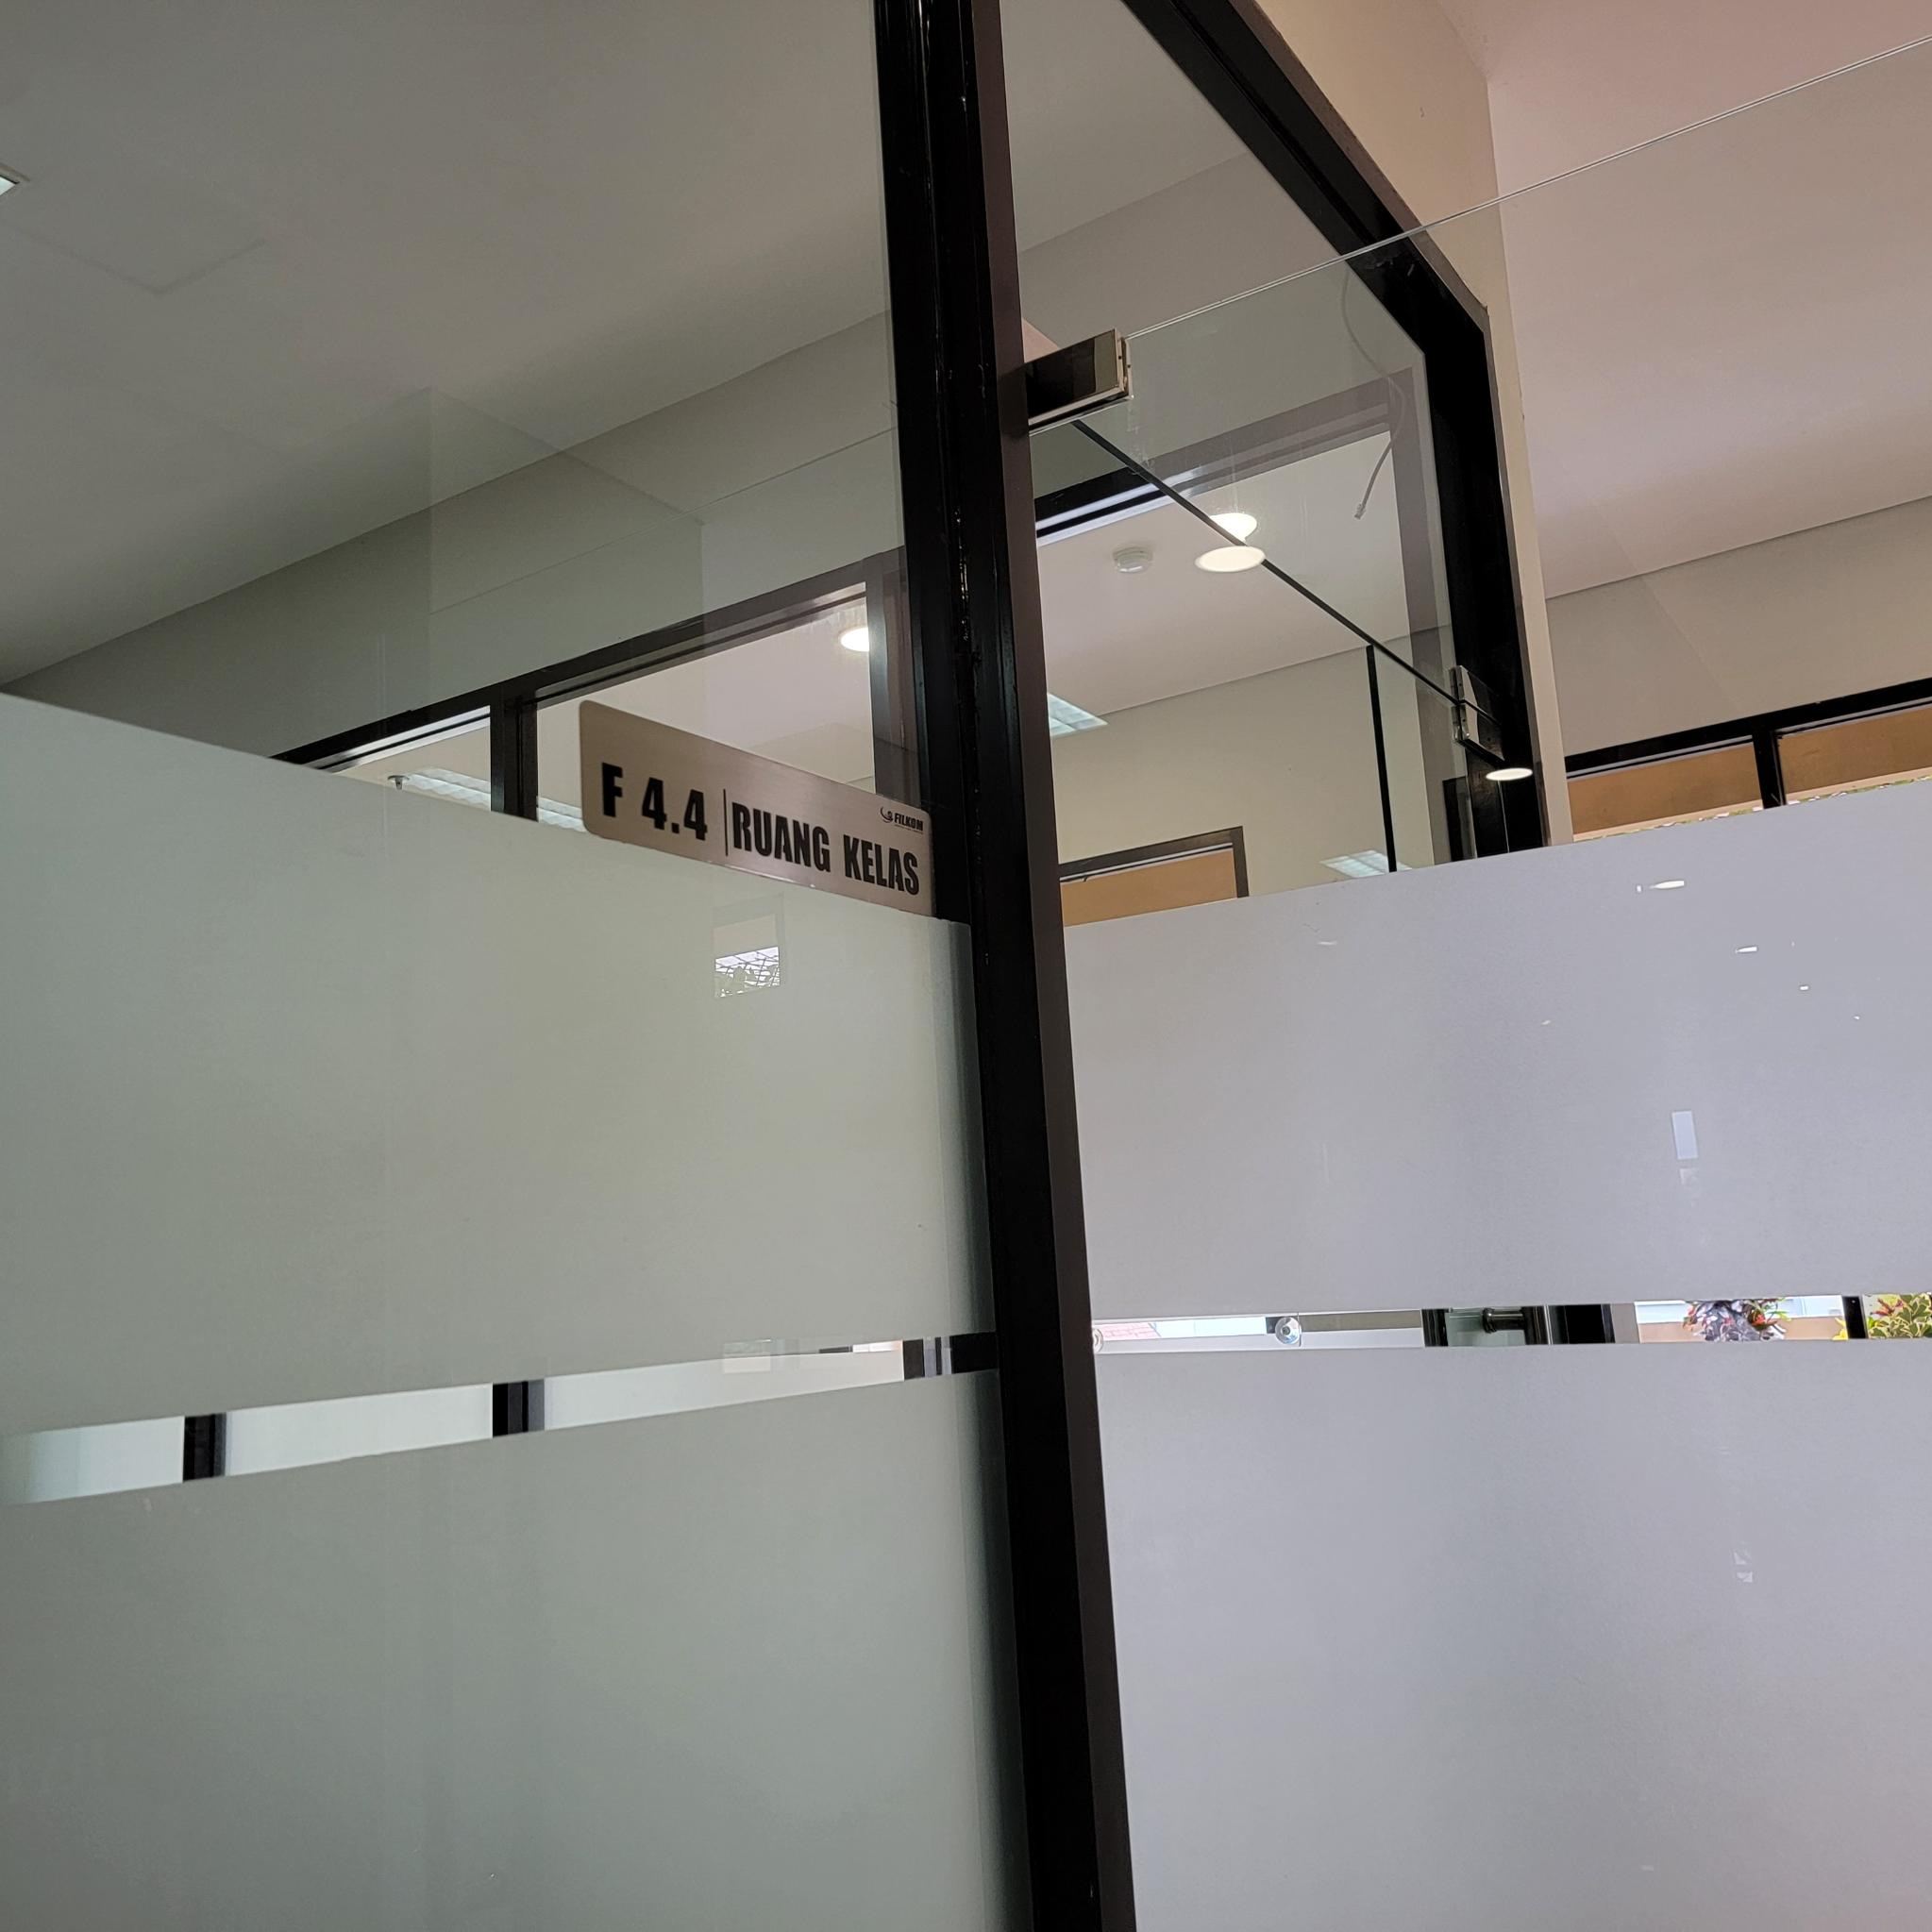plate: (580, 695, 932, 918)
